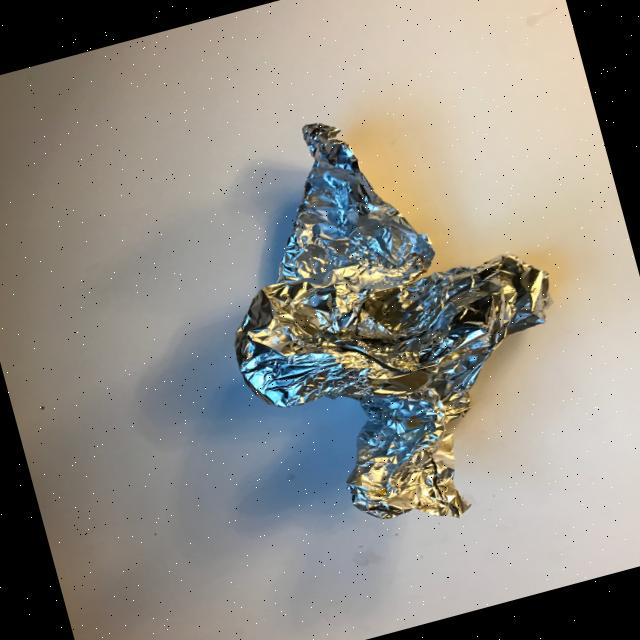metal: (181, 72, 604, 562)
